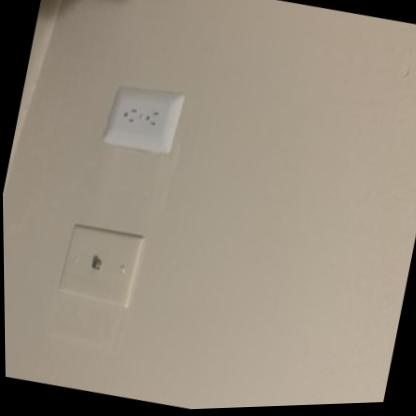OUTLET: (101, 77, 186, 160)
